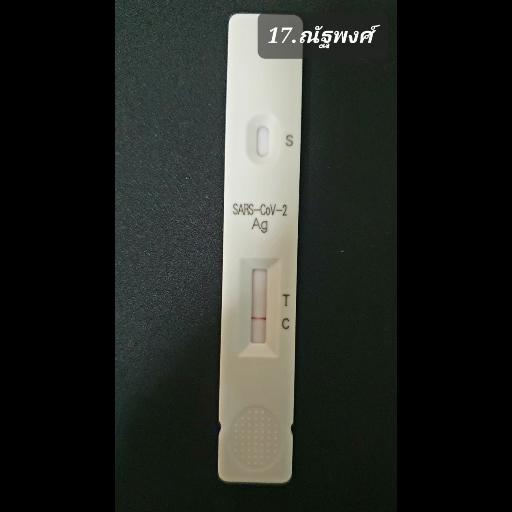Neg: (218, 13, 303, 484)
